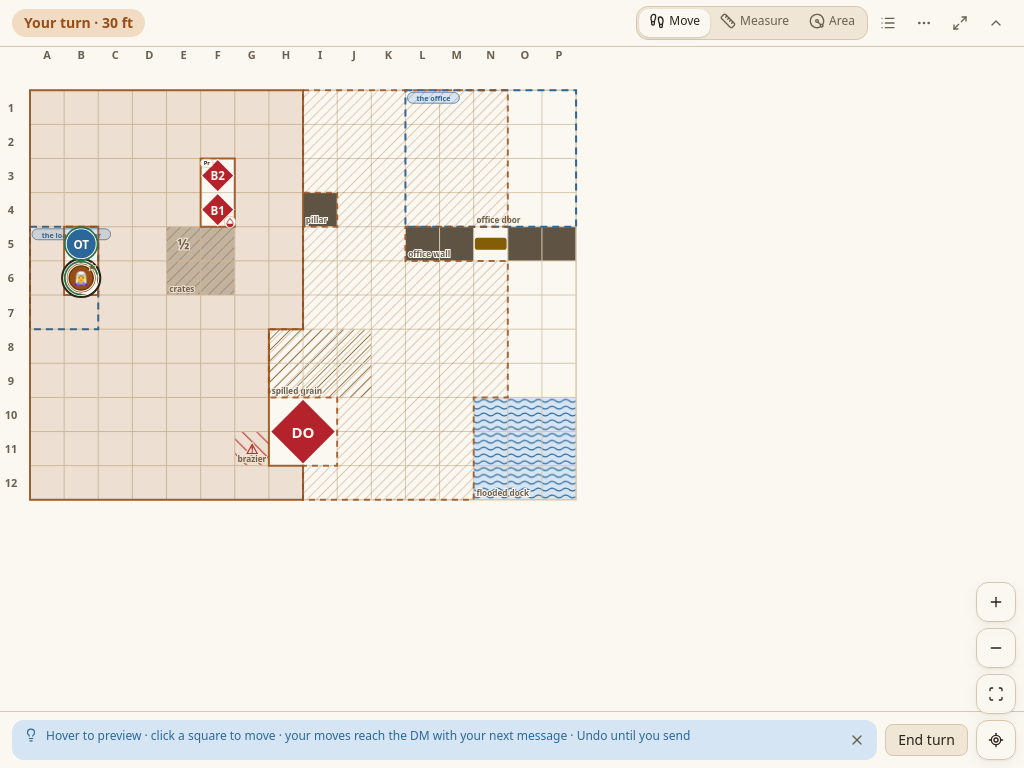
Test: area templates (D50, D64) › offers the hero’s prepared area spells, parsed from their text, and Custom
Click the radio button labelled "Area" at (832, 23), box [799,9,865,37]
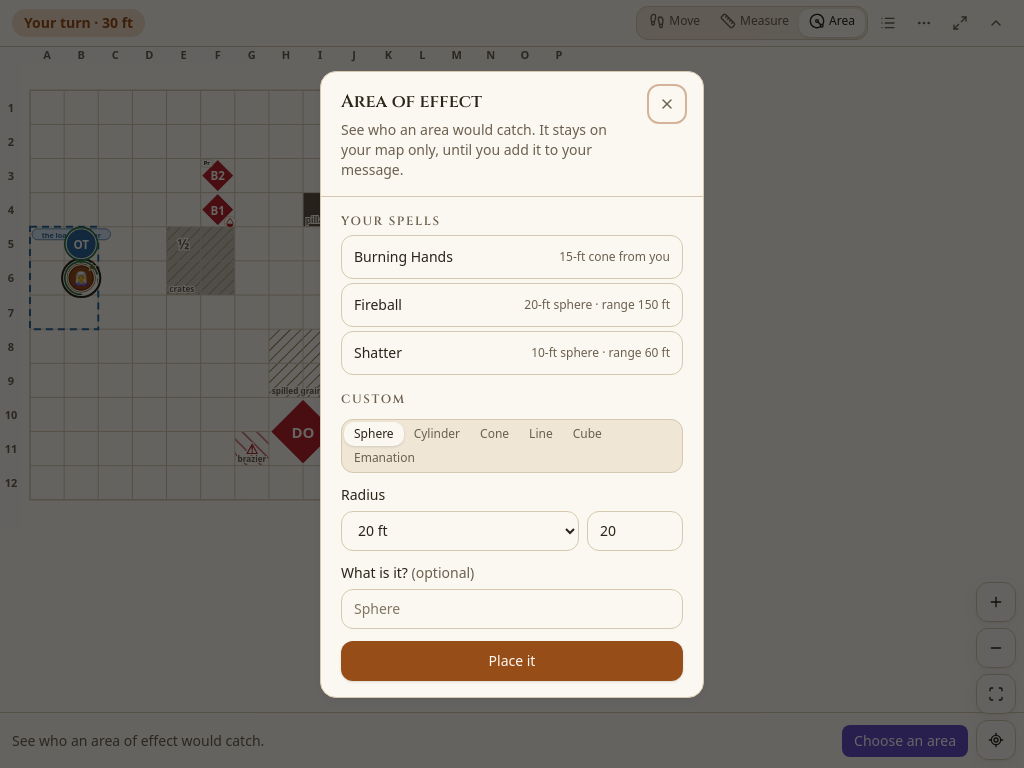
Check: the buttons read "Burning Hands15-ft cone from you", "Fireball20-ft sphere · range 150 ft", "Shatter10-ft sphere · range 60 ft", in this order, box [341,234,683,278]; [341,282,683,326]; [341,330,683,374]
Check: the element named "Custom area" is shown, box [341,390,683,680]
